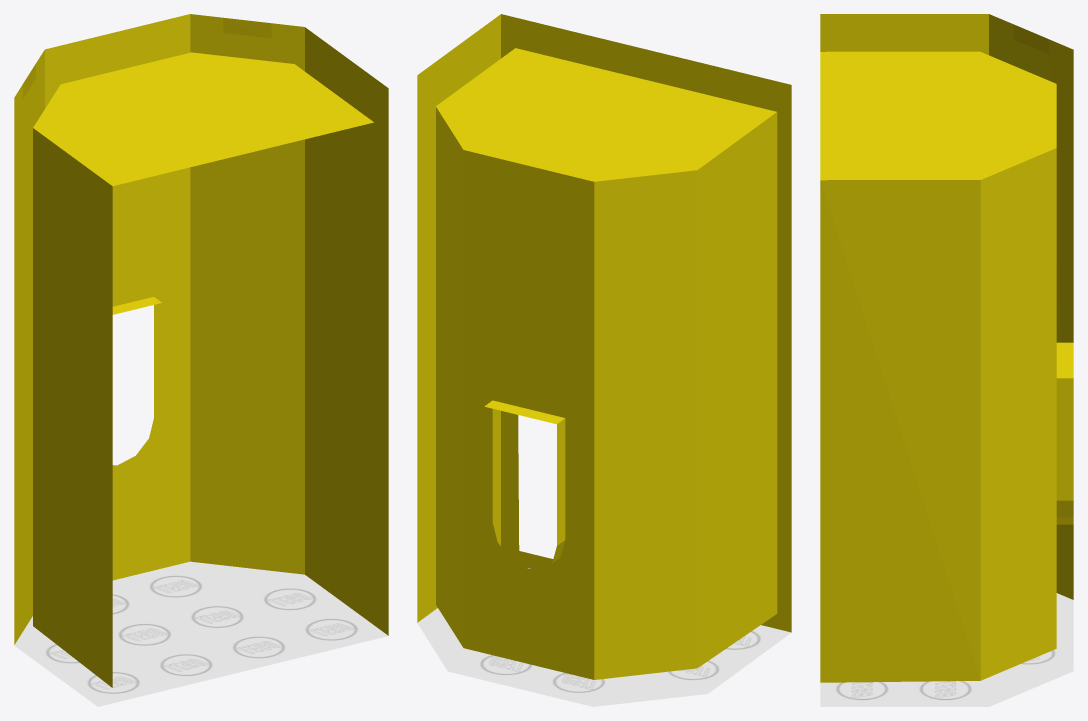
3 renders of one model, left to right at view 1: azimuth 30°, elevation 25°; view 2: azimuth 150°, elevation 25°; view 3: azimuth 270°, elevation 25°, orthographic.
Visible parts, largest first — view 1: 005_L_3024600_PART_1; view 2: 005_L_3024600_PART_1; view 3: 005_L_3024600_PART_1.
Part boxes in pixels (x1,y1,x2,y2): 005_L_3024600_PART_1: (14,14,388,706); 005_L_3024600_PART_1: (417,14,791,706); 005_L_3024600_PART_1: (820,14,1073,706).
Bounding box in the file's own units: 3.2 × 5.76 × 2.4.
Materials: 4 (2 with a texture image).
